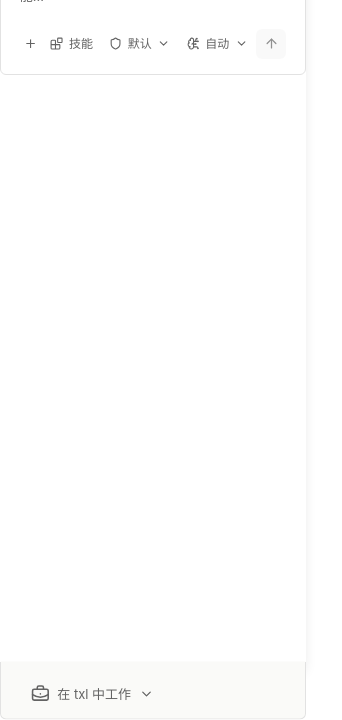
Scenario: HomeTaskComposerCard › selects a recent workspace from the dropdown without opening the system picker
This screenshot has width=342, height=720.
(page scrolled)
Press the mouse on the button with aria-label "选择工作目录" at [92, 694], box [20,677,165,711]
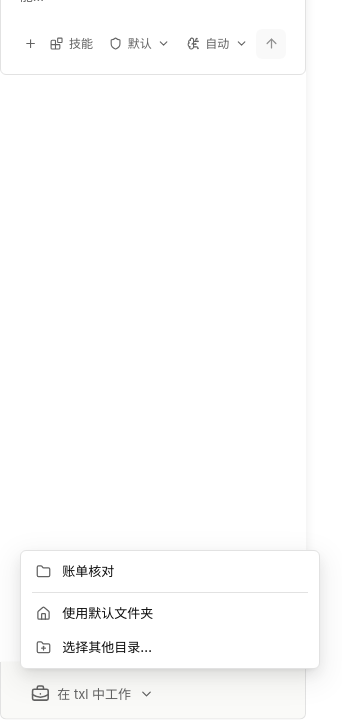
Click the menu item "账单核对" at [75, 571], box [36,563,114,579]
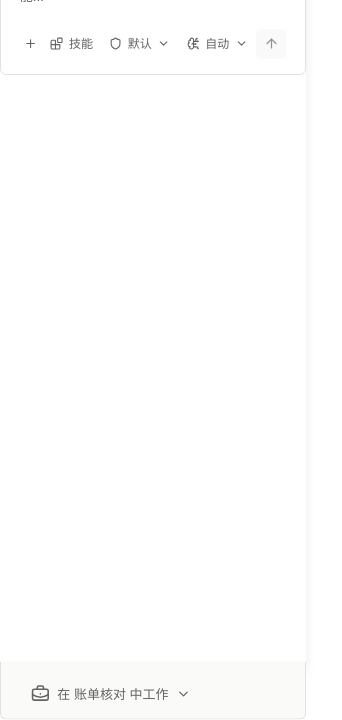
expect the text "在 账单核对 中工作" is shown: met, box [57,684,169,703]
